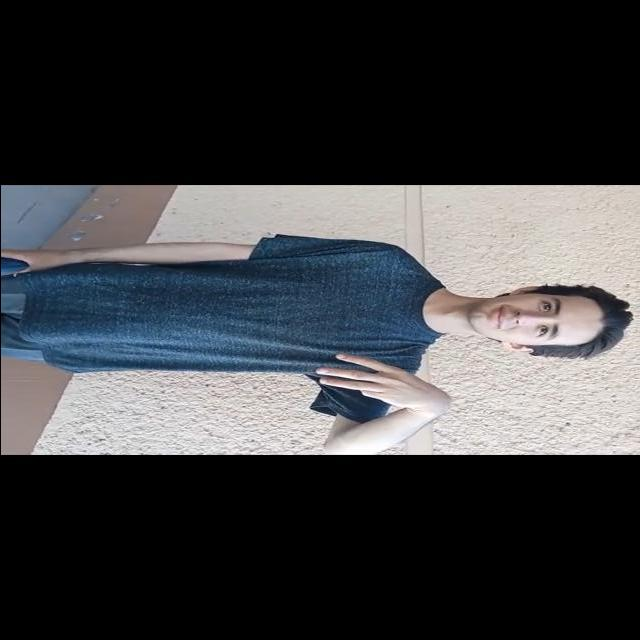M: (290, 346, 465, 419)
